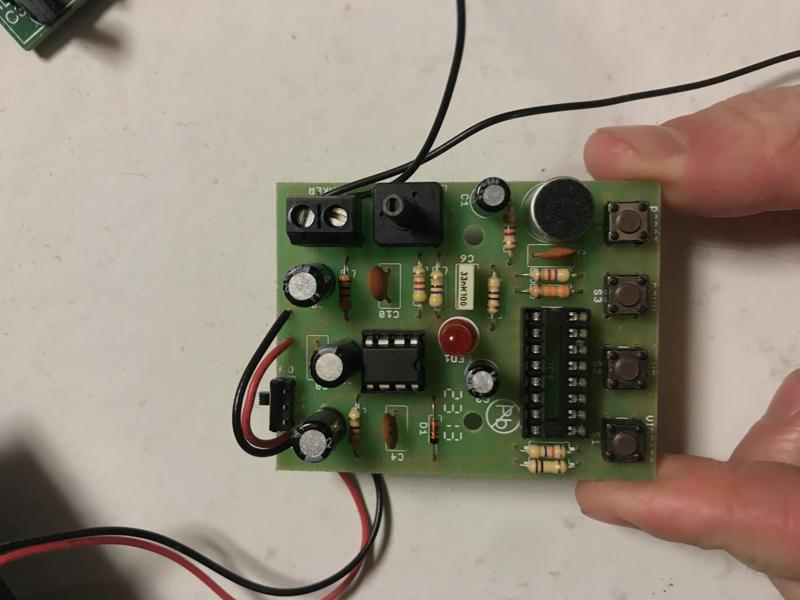Capacitor: (288, 406, 347, 465), (308, 337, 361, 389), (282, 262, 336, 308), (470, 176, 512, 218), (463, 359, 502, 401)
Diode: (427, 417, 441, 447)
LED: (437, 318, 479, 358)
Resistor: (344, 401, 365, 453), (498, 213, 521, 258), (334, 268, 355, 317), (520, 458, 576, 476), (410, 259, 429, 309), (520, 443, 572, 460), (523, 266, 575, 283), (485, 271, 503, 317), (525, 284, 576, 300), (429, 265, 444, 313)
